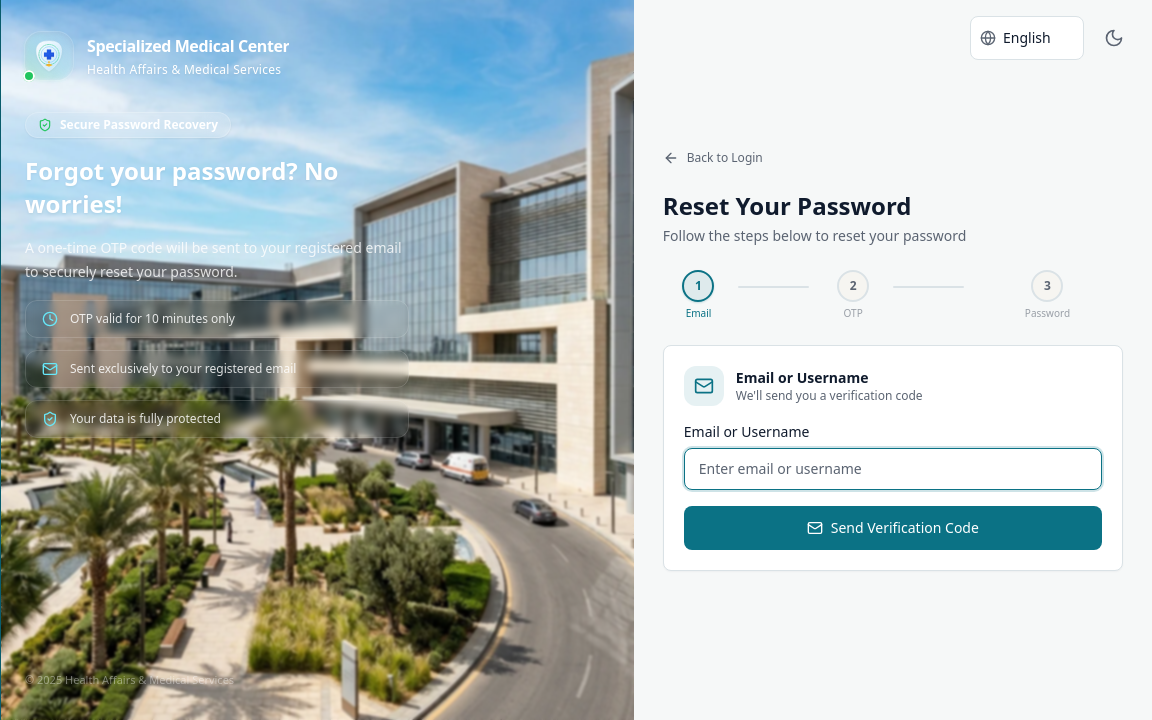
Scenario: ForgotPasswordPage recovery flow › advances to password creation after a valid server-backed verification flow
Type "admin@hospital.sa" into the field labelled "Email or Username" at [893, 468], box [684,448,1102,490]
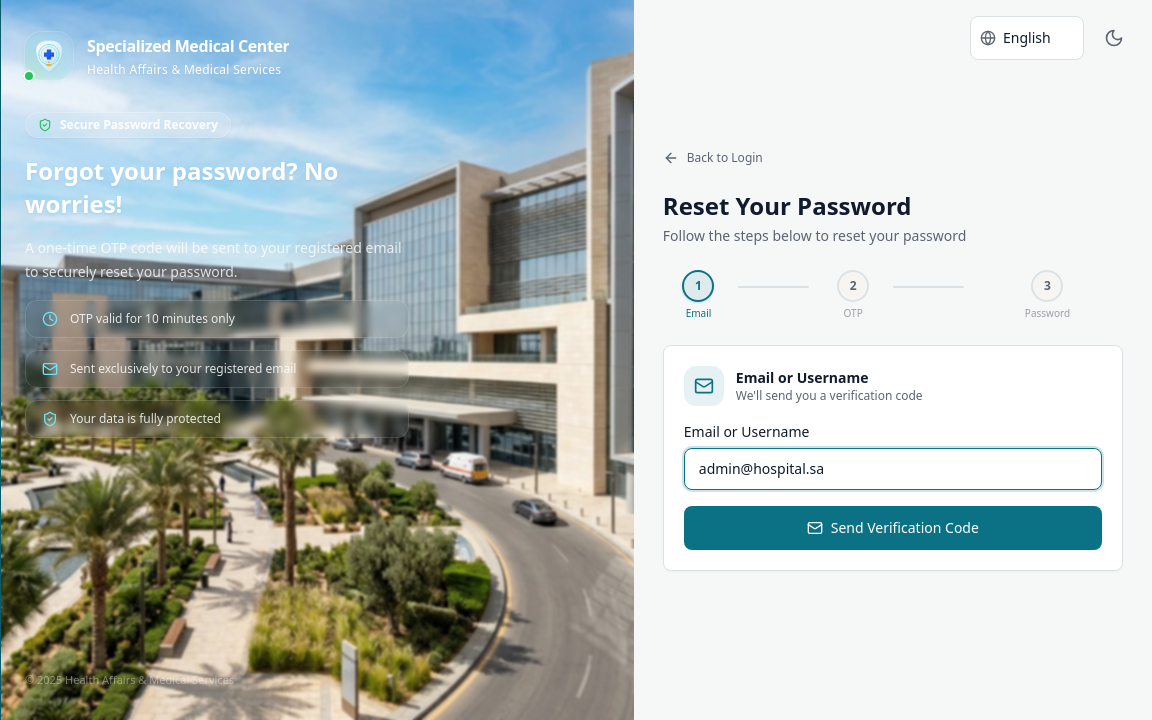
Click the button "Send Verification Code" at [893, 528], box [684,506,1102,550]
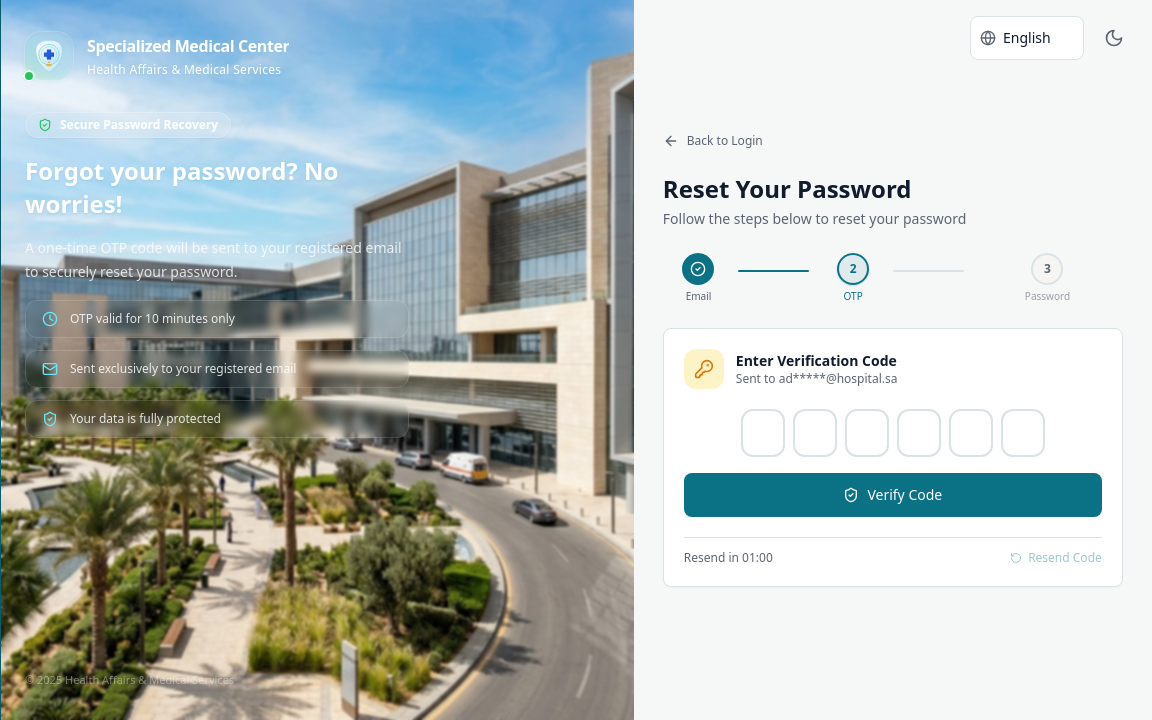
Result: the text "Enter Verification Code" is shown at [736,351,898,371]
Type "246810" into the field named "Digit 1 of 6" at [763, 433], box [741,409,785,457]
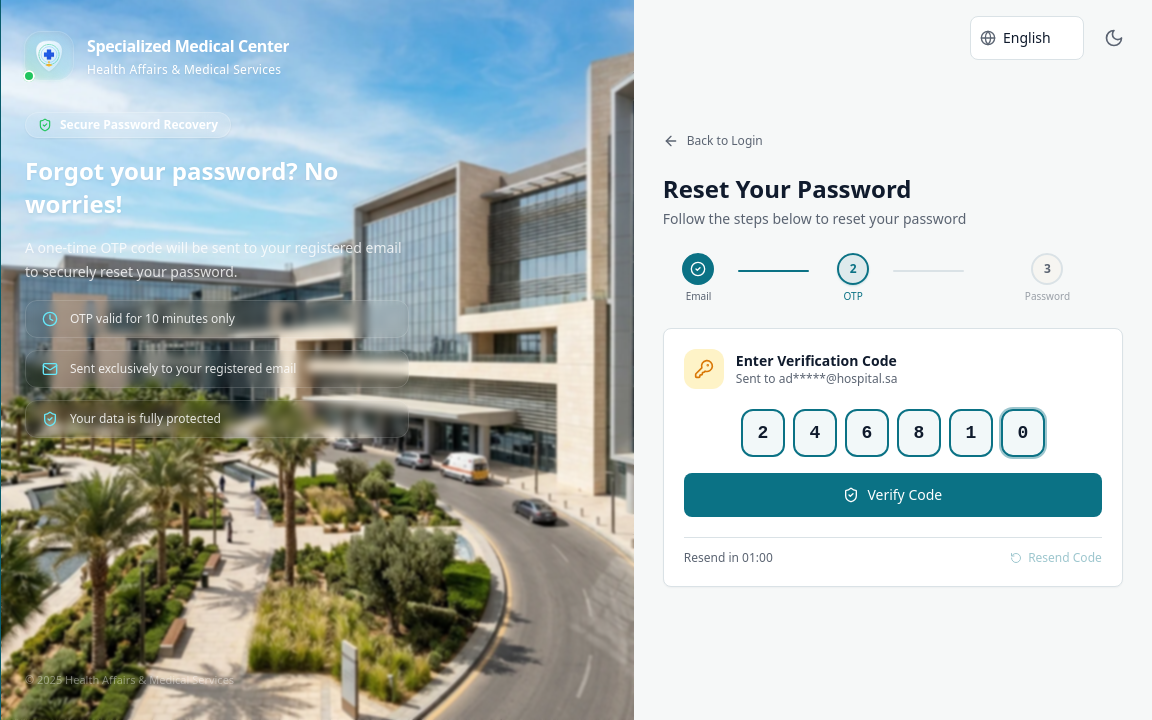
Click the button "Verify Code" at [893, 495], box [684,473,1102,517]
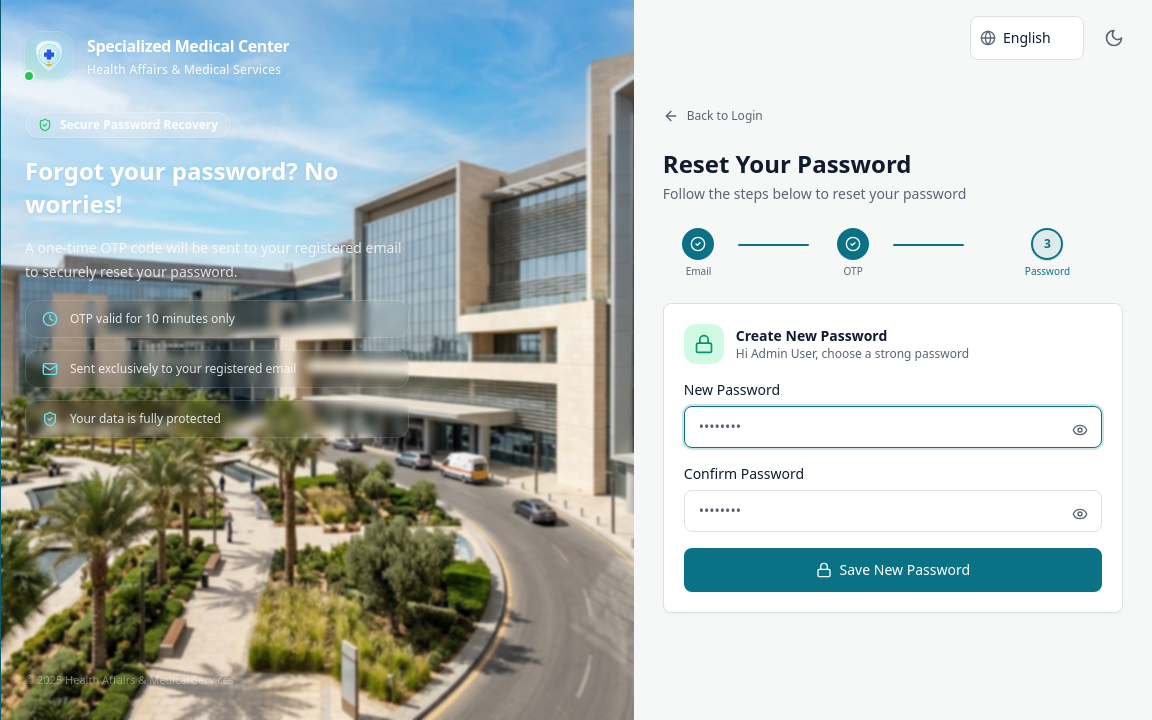
Result: the text "Create New Password" is shown at [736,326,887,344]
